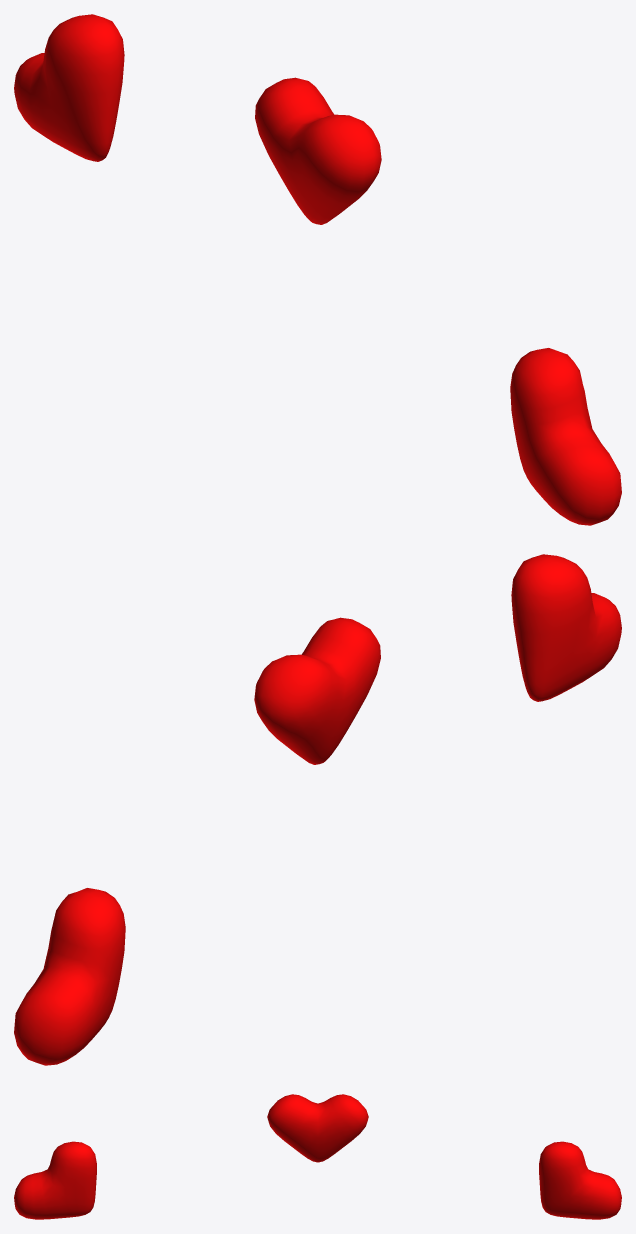
Rendered from newheartmove.glb.
The picture shows the model from 3 angles, top to bottom: view 1: azimuth 30°, elevation 25°; view 2: azimuth 150°, elevation 25°; view 3: azimuth 270°, elevation 25°; orthographic projection. The views are drawn at different scales.
Parts seen in each view (by area): view 1: 立方体, 立方体.001, 立方体.002; view 2: 立方体.002, 立方体.001, 立方体; view 3: 立方体.001, 立方体, 立方体.002.
Boxes of the visible parts, x1=… form: 立方体: x1=510, y1=348, x2=621, y2=525; 立方体.001: x1=255, y1=77, x2=381, y2=224; 立方体.002: x1=14, y1=14, x2=124, y2=161; 立方体.002: x1=14, y1=888, x2=125, y2=1065; 立方体.001: x1=254, y1=617, x2=380, y2=764; 立方体: x1=511, y1=554, x2=621, y2=701; 立方体.001: x1=267, y1=1094, x2=368, y2=1162; 立方体: x1=14, y1=1141, x2=96, y2=1219; 立方体.002: x1=539, y1=1141, x2=621, y2=1219.
Bounding box in the file's own units: 0.6367 × 2.23 × 10.12.
